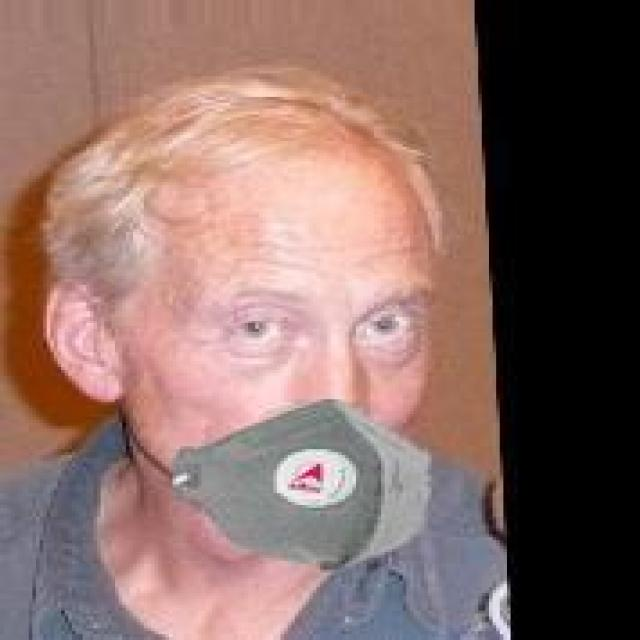mask: (25, 79, 500, 555)
